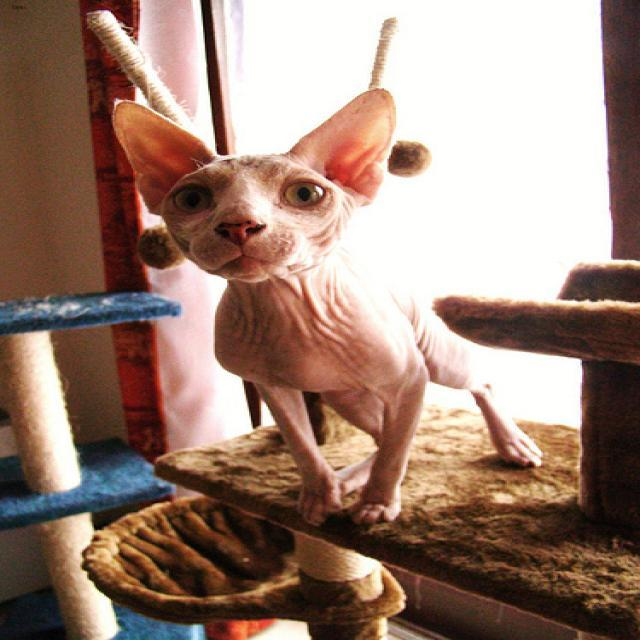Sphynx: (109, 83, 401, 284)
